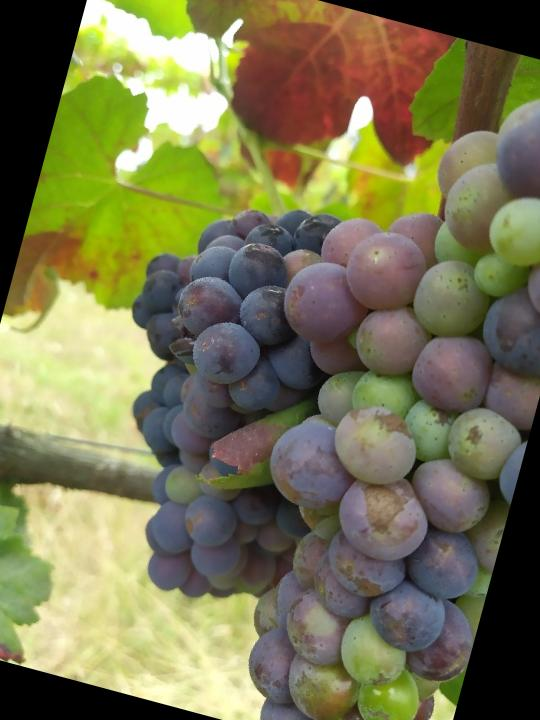grape: (168, 43, 540, 720), (60, 172, 385, 627)
